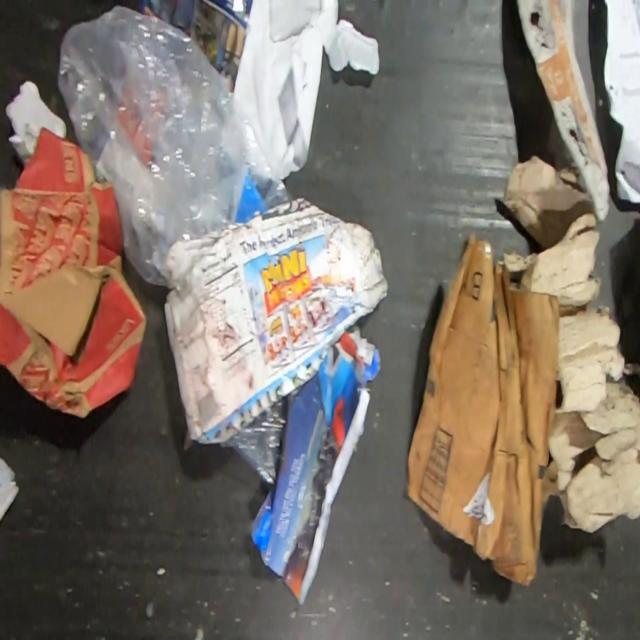cardboard: (404, 231, 560, 586), (496, 153, 640, 534), (0, 125, 149, 420)
soft_plastic: (56, 4, 296, 287), (219, 396, 287, 488)
